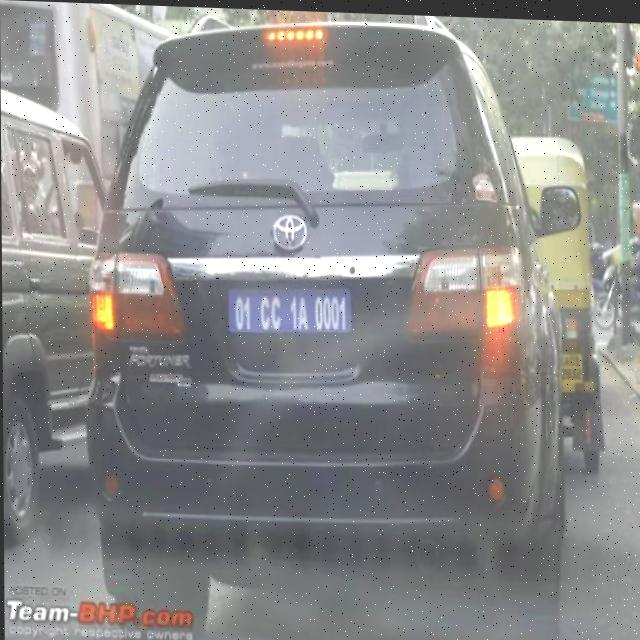plate: (224, 279, 353, 336)
